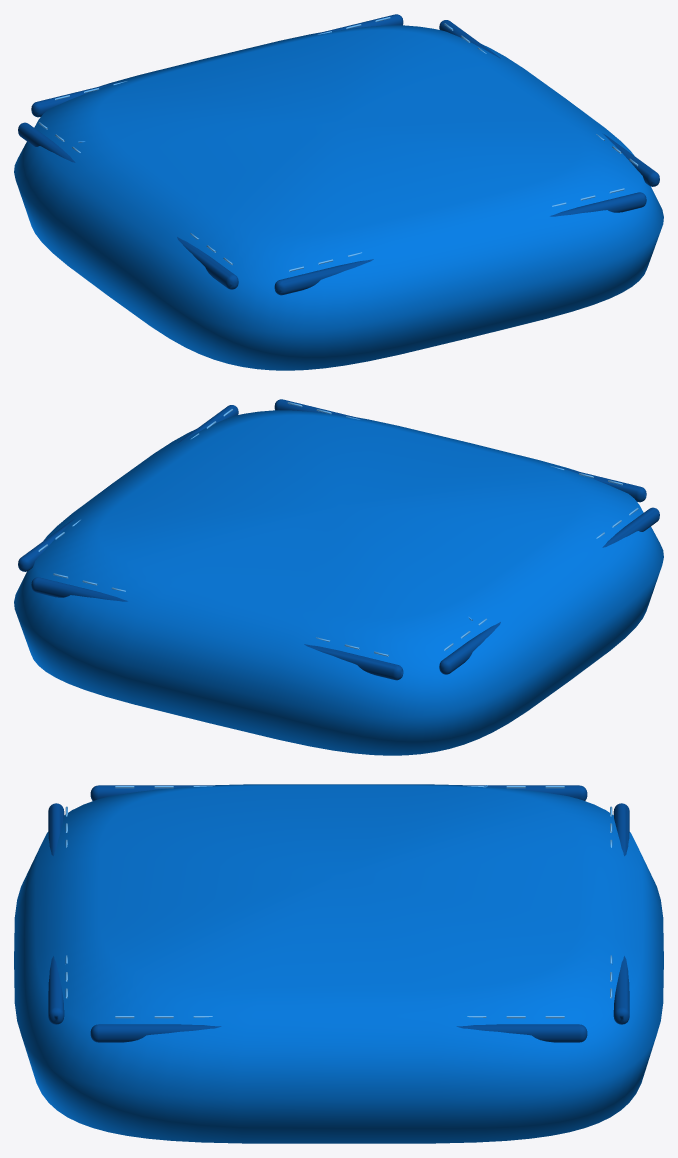
Rendered from Sandsack_3D.glb.
3 views of the same model, one above another, from view 1: azimuth 30°, elevation 25°; view 2: azimuth 150°, elevation 25°; view 3: azimuth 270°, elevation 25° (orthographic). The views are drawn at different scales.
Visible parts, largest first — view 1: Sandsack_3D__web_deep_blue_soft_square_sandbag_vinyl_fabric, Sandsack_3D__web_darker_blue_raised_sandbag_stitched_border, Sandsack_3D__web_light_blue_individual_sandbag_stitches; view 2: Sandsack_3D__web_deep_blue_soft_square_sandbag_vinyl_fabric, Sandsack_3D__web_darker_blue_raised_sandbag_stitched_border, Sandsack_3D__web_light_blue_individual_sandbag_stitches; view 3: Sandsack_3D__web_deep_blue_soft_square_sandbag_vinyl_fabric, Sandsack_3D__web_darker_blue_raised_sandbag_stitched_border, Sandsack_3D__web_light_blue_individual_sandbag_stitches.
Part boxes in pixels (x1,y1,x2,y2): Sandsack_3D__web_deep_blue_soft_square_sandbag_vinyl_fabric: [14, 25, 663, 370]; Sandsack_3D__web_darker_blue_raised_sandbag_stitched_border: [18, 14, 659, 295]; Sandsack_3D__web_light_blue_individual_sandbag_stitches: [38, 17, 638, 271]; Sandsack_3D__web_deep_blue_soft_square_sandbag_vinyl_fabric: [14, 410, 663, 755]; Sandsack_3D__web_darker_blue_raised_sandbag_stitched_border: [18, 399, 659, 680]; Sandsack_3D__web_light_blue_individual_sandbag_stitches: [38, 402, 638, 656]; Sandsack_3D__web_deep_blue_soft_square_sandbag_vinyl_fabric: [14, 784, 663, 1143]; Sandsack_3D__web_darker_blue_raised_sandbag_stitched_border: [48, 785, 629, 1042]; Sandsack_3D__web_light_blue_individual_sandbag_stitches: [65, 786, 612, 1018].
Size of the model in its own units: 1.23 by 0.34 by 1.23.
